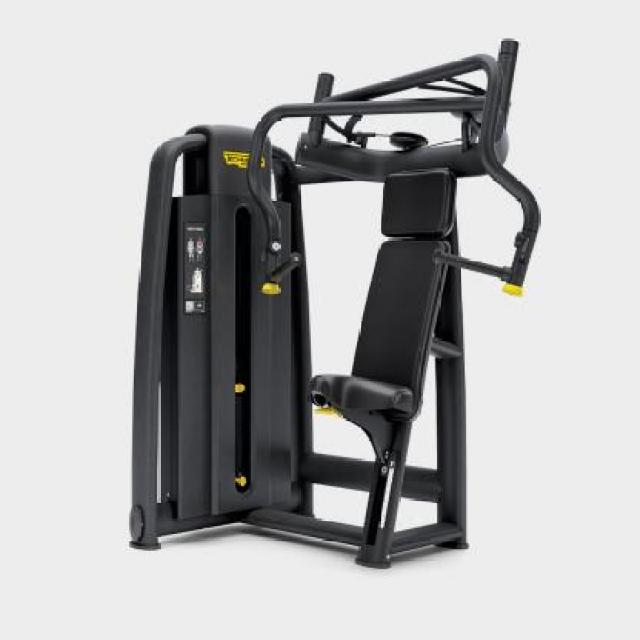Chest Press machine: (114, 34, 551, 575)
